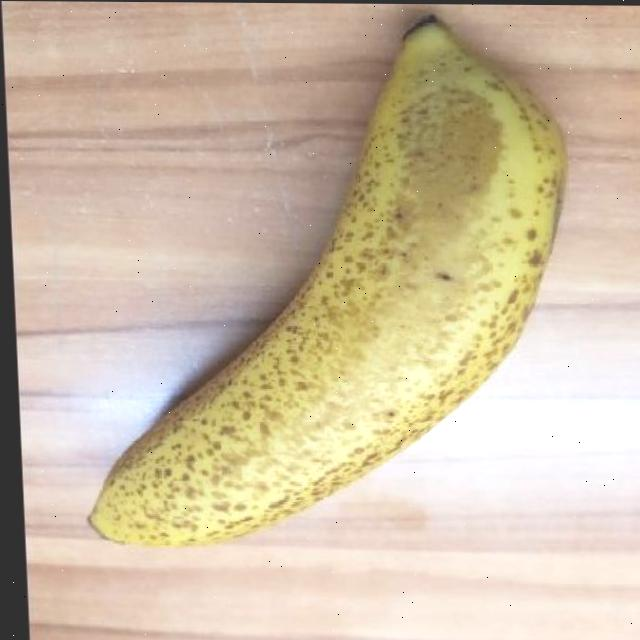banana: (64, 0, 585, 558)
